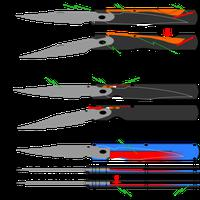knife: (13, 26, 198, 61), (11, 105, 200, 136), (9, 5, 200, 31), (8, 79, 200, 102), (8, 141, 200, 163)
